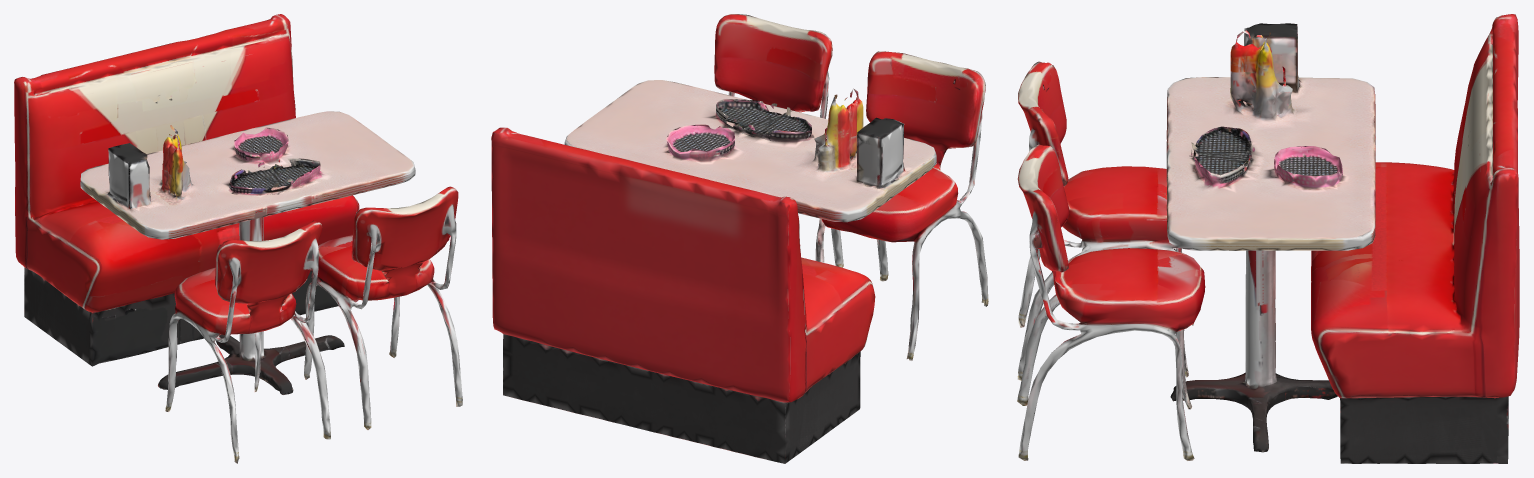
The model's file is Meshy_AI_Retro_Diner_Booth_0102103556_texture.fbx.
The picture shows the model from 3 angles, left to right: view 1: azimuth 30°, elevation 25°; view 2: azimuth 150°, elevation 25°; view 3: azimuth 270°, elevation 25°; orthographic projection. The views are drawn at different scales.
Visible parts, largest first — view 1: Mesh0; view 2: Mesh0; view 3: Mesh0.
Part boxes in pixels (x1,y1,x2,y2): Mesh0: (14, 14, 462, 463); Mesh0: (491, 14, 988, 463); Mesh0: (1017, 14, 1519, 463).
Bounding box in the file's own units: 148 × 135 × 191.
Materials: 1 (1 with a texture image).
